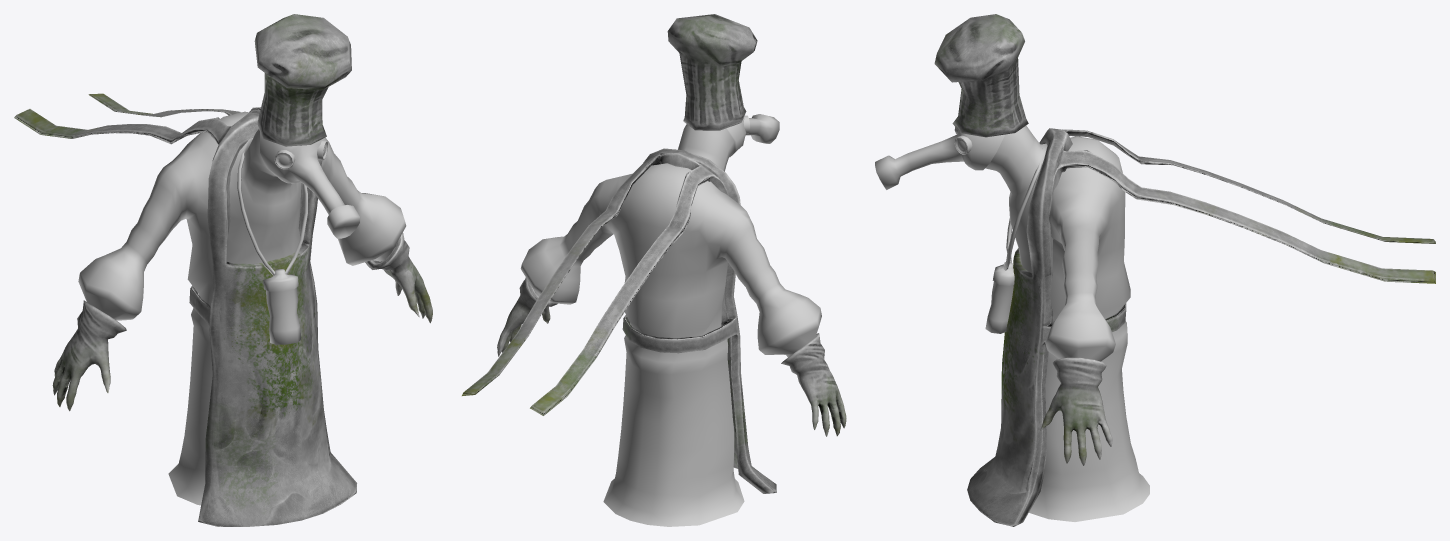
The model's file is SongChef.fbx.
The picture shows the model from 3 angles, left to right: view 1: azimuth 30°, elevation 25°; view 2: azimuth 150°, elevation 25°; view 3: azimuth 270°, elevation 25°; orthographic projection. The views are drawn at different scales.
Visible parts, largest first — view 1: SongBirdChefApparel, SongBirdUnderTorsoTorso, SongGloves, LambSauce, SongNeck; view 2: SongBirdUnderTorsoTorso, SongBirdChefApparel, SongGloves; view 3: SongBirdChefApparel, SongBirdUnderTorsoTorso, SongGloves, LambSauce, SongNeck.
Boxes of the visible parts, x1,y1,x2,y2 form: SongBirdChefApparel: (14,14,356,526); SongBirdUnderTorsoTorso: (78,111,406,505); SongGloves: (52,233,432,411); LambSauce: (263,269,301,344); SongNeck: (237,151,307,275); SongBirdUnderTorsoTorso: (520,114,821,526); SongBirdChefApparel: (462,14,776,493); SongGloves: (497,277,846,436); SongBirdChefApparel: (934,14,1435,526); SongBirdUnderTorsoTorso: (875,125,1149,521); SongGloves: (1040,357,1112,465); LambSauce: (985,262,1014,333); SongNeck: (1003,147,1044,270).
Bounding box in the file's own units: 8.93 × 11.32 × 12.21.
